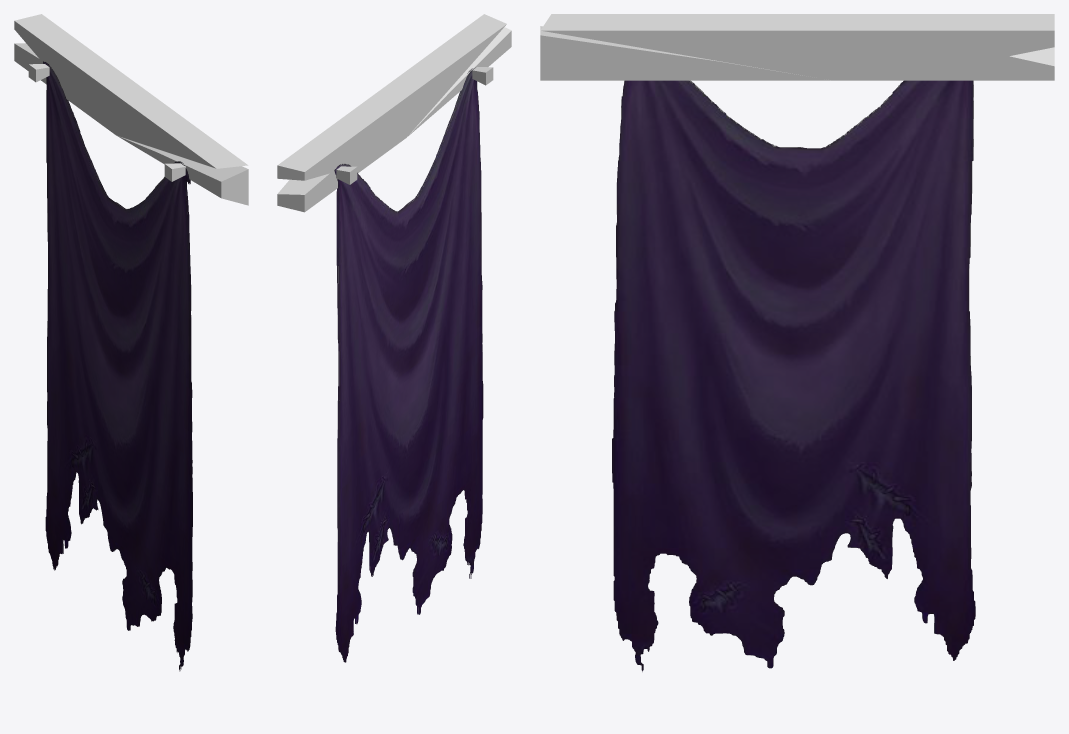
The model's file is Bandera_01.fbx.
The picture shows the model from 3 angles, left to right: view 1: azimuth 30°, elevation 25°; view 2: azimuth 150°, elevation 25°; view 3: azimuth 270°, elevation 25°; orthographic projection. The views are drawn at different scales.
Visible parts, largest first — view 1: Cube.002; view 2: Cube.002; view 3: Cube.002.
Part boxes in pixels (bbox=[...]): Cube.002: bbox=[14, 14, 248, 671]; Cube.002: bbox=[277, 14, 511, 662]; Cube.002: bbox=[540, 14, 1054, 671].
Size of the model in its own units: 32.43 by 410 by 271.
